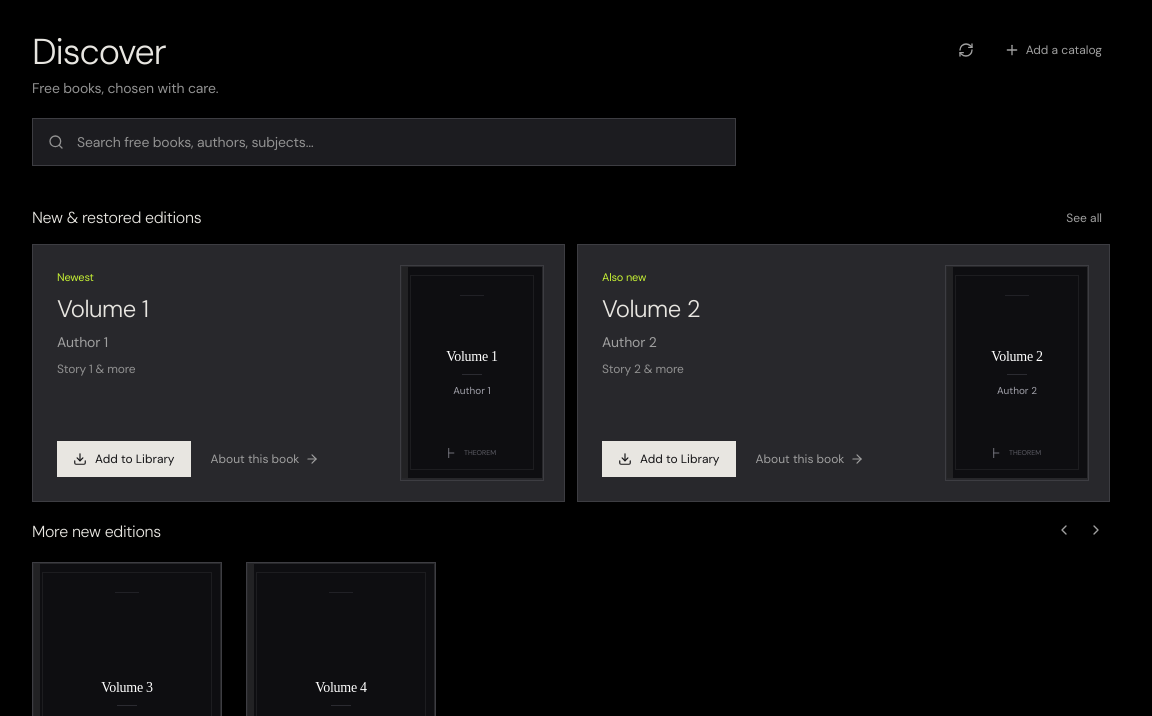
Test case: Discover page › with no catalogs added › offers Add a catalog in the header and in the bring-your-library card, with no built-in suggestions
Click the button with aria-label "Add a catalog".
click(1053, 50)  # box [996, 32, 1110, 68]
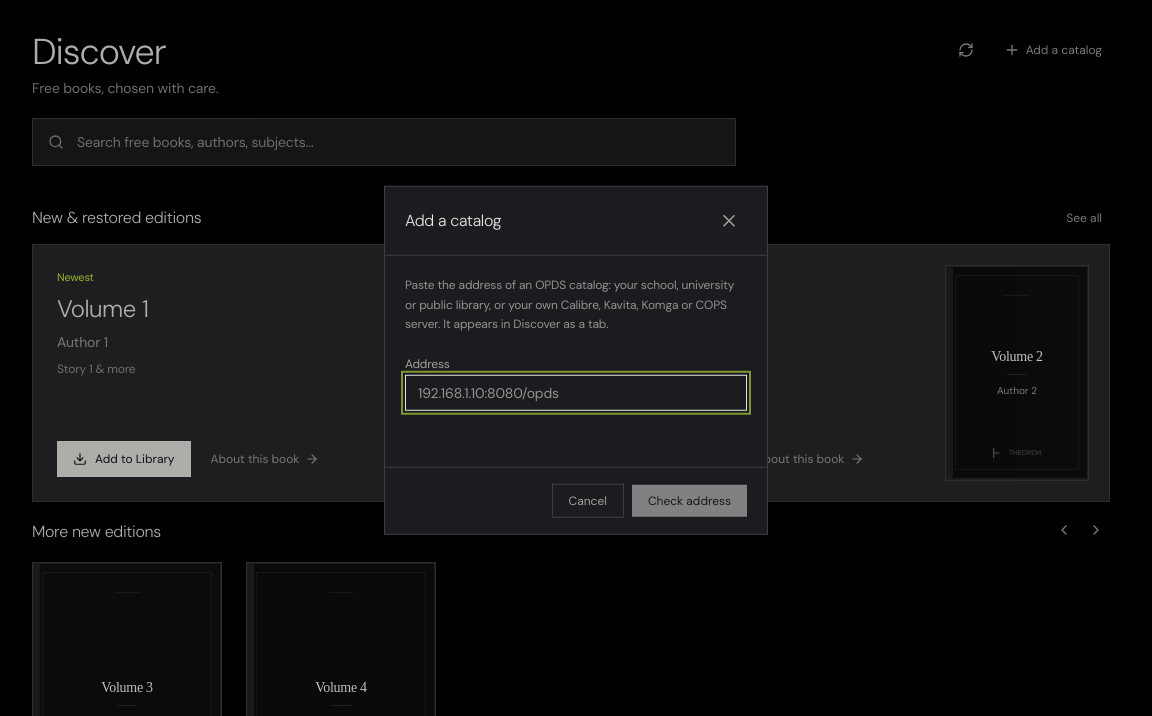
Expected: the dialog shows "Add a catalog", [405, 210, 501, 231]
